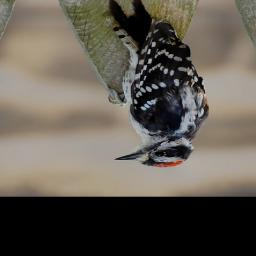Woodpecker: (109, 0, 213, 168)
